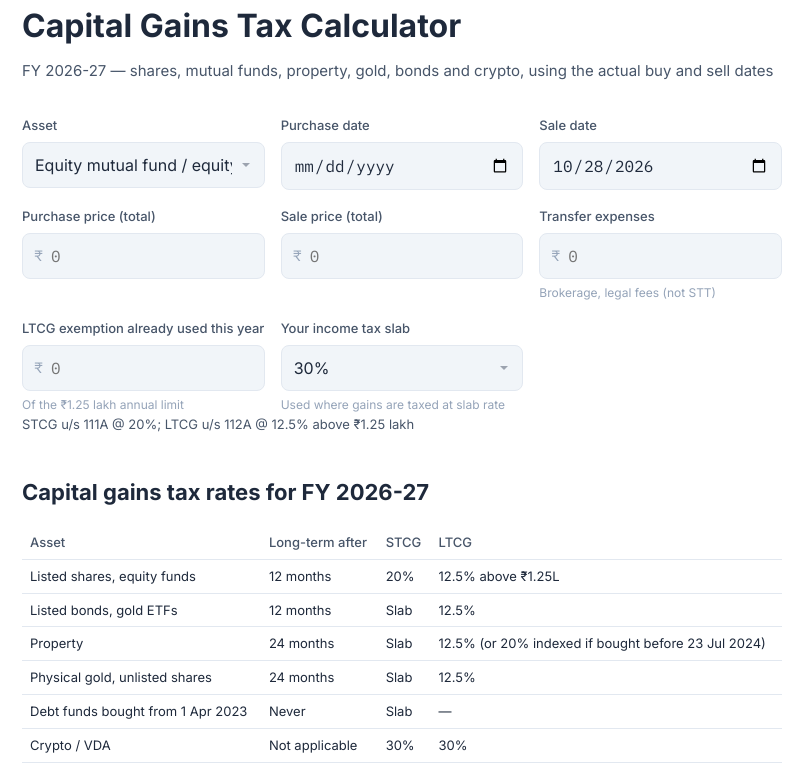
Test: CapitalGainsCalculator page › shows the indexation comparison for old property
Select "Land / house property" in the 1st dropdown: (143, 165) 22,142 -> 265,188
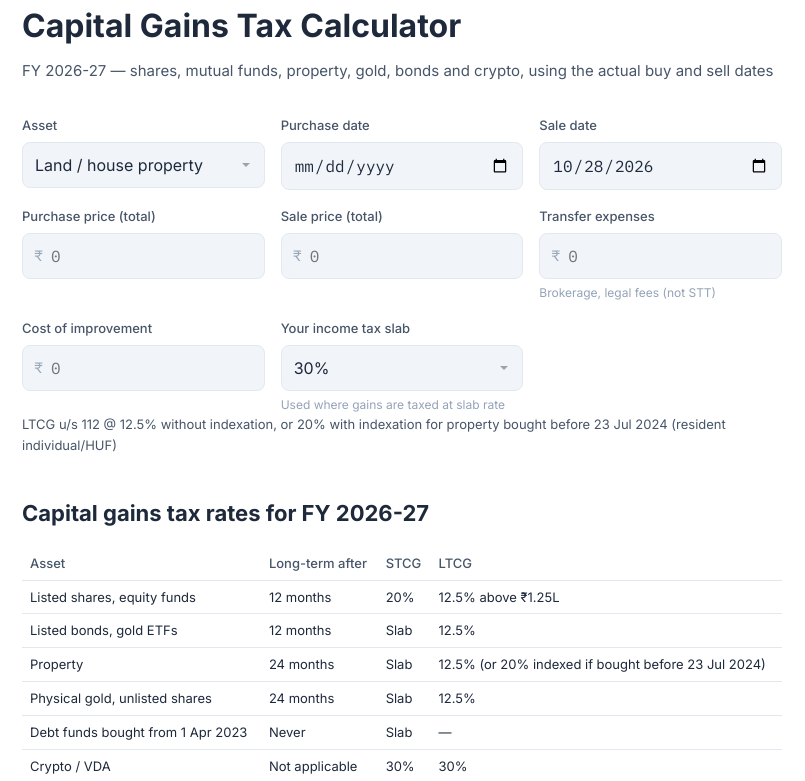
In the date field below "Purchase date": (402, 166) 281,142 -> 523,190, type "2002-06-01"
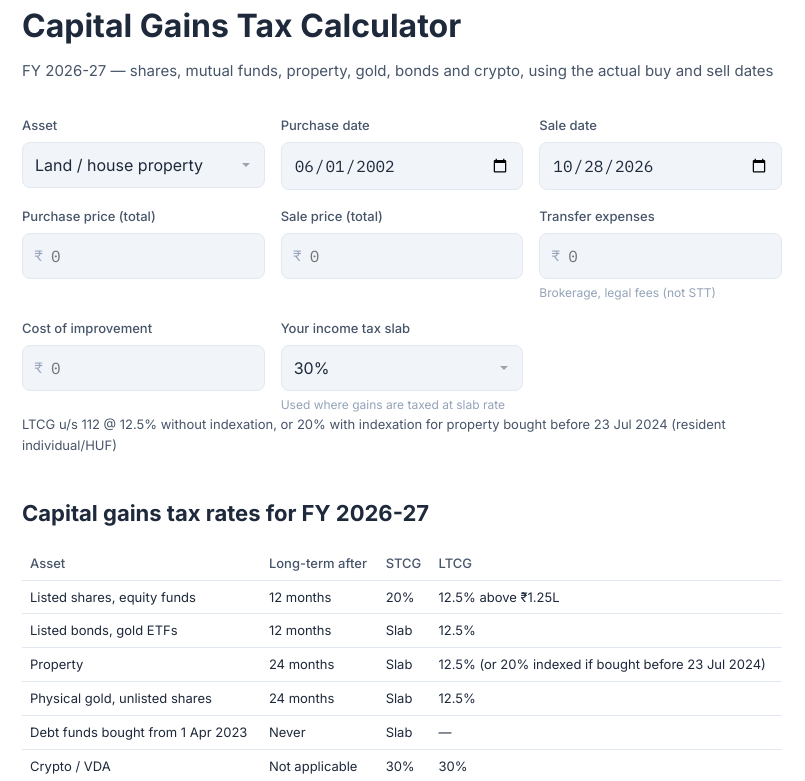
In the date field below "Sale date": (661, 166) 539,142 -> 782,190, type "2025-12-01"
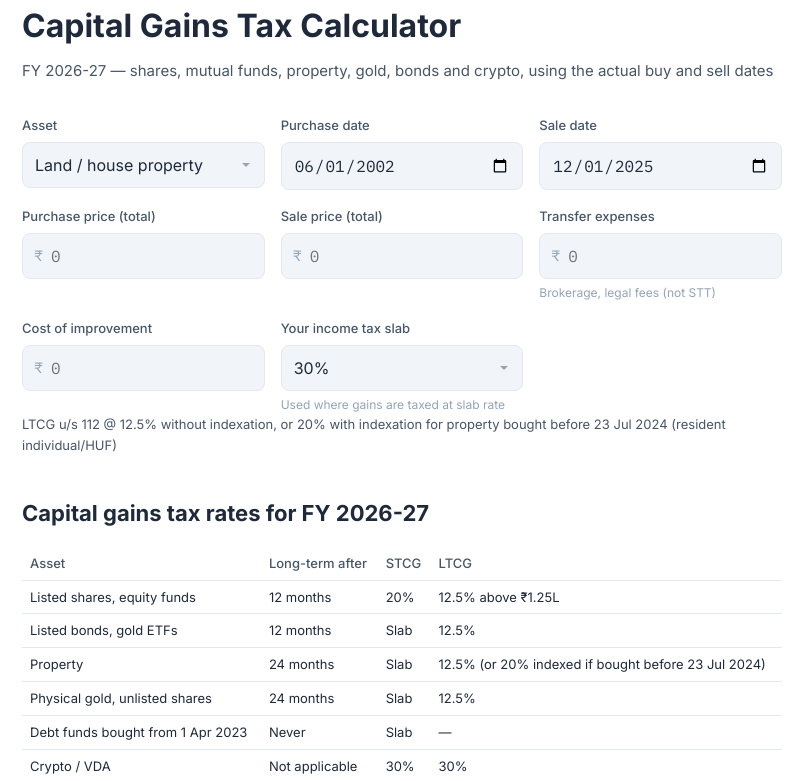
In the number field with placeholder "0" below "Purchase price (total)": (143, 256) 22,233 -> 265,279, type "1000000"
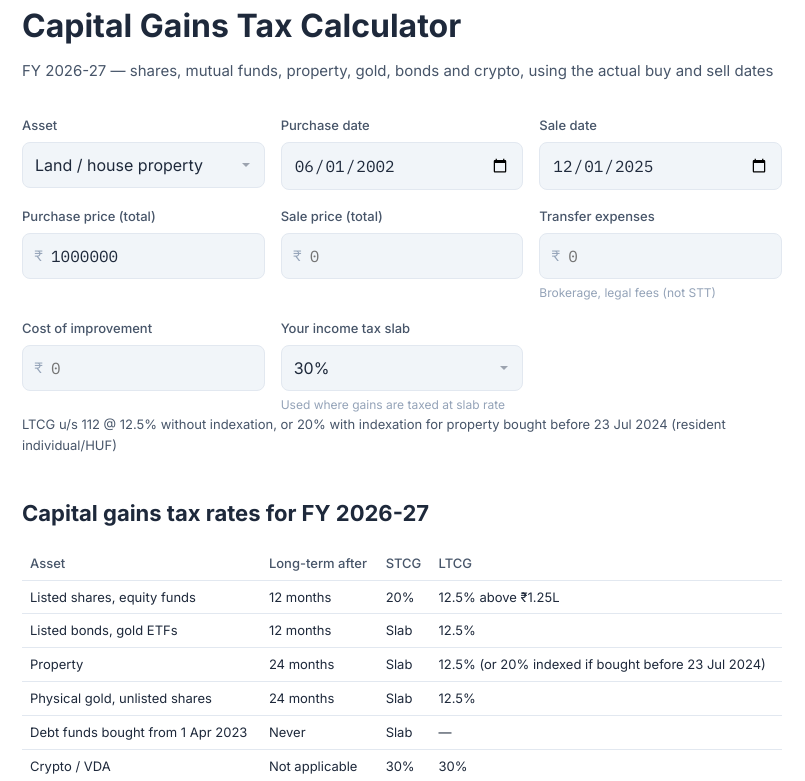
In the number field with placeholder "0" below "Sale price (total)": (402, 256) 281,233 -> 523,279, type "6000000"
(page scrolled)
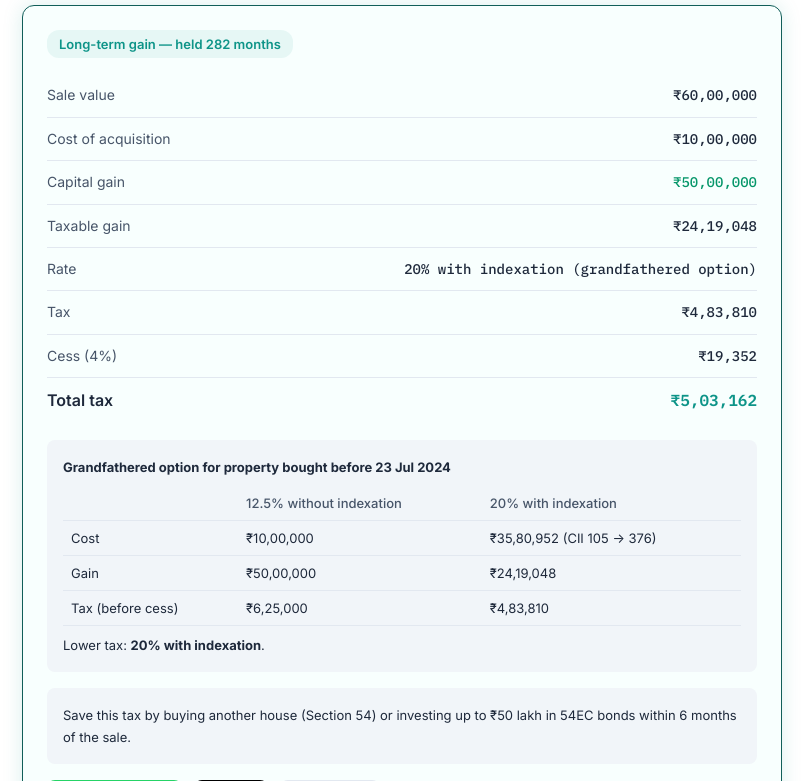
expect the element with test id "indexation" shows "20% with indexation": met, box 490,495 -> 617,511
expect the text with test id "total-tax" reads "₹5,03,162": met, box 671,390 -> 757,410
